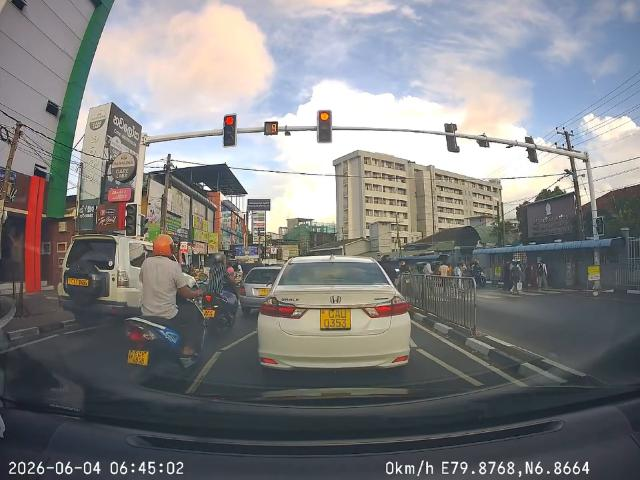number plate: (314, 307, 361, 335), (124, 347, 155, 371)
